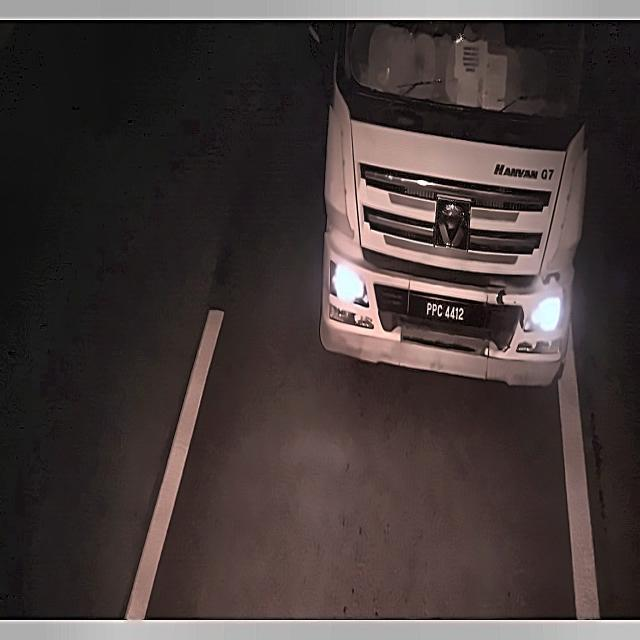car: (411, 294, 482, 327)
